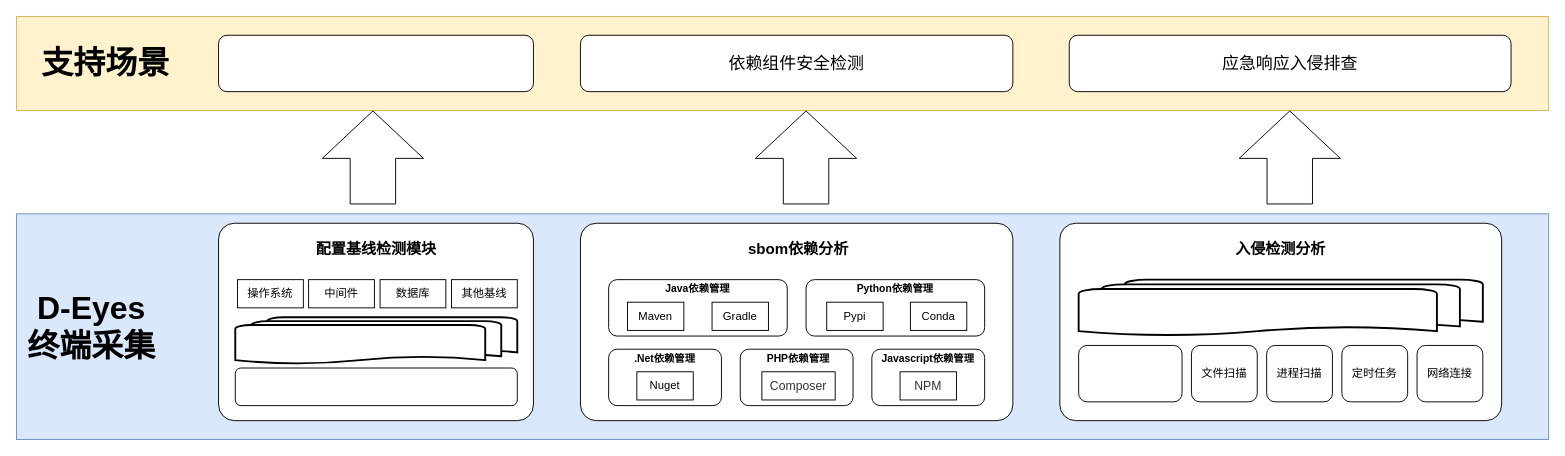
This 1565x456 diagram has some shape labels left out. The centre of each missing label's shape, as x and y in pixels:
yara规则: the point at 1280,307
yara规则引擎: the point at 1130,373
基线检测规则引擎: the point at 375,386
自定义基线检测规则: the point at 376,340
配置基线检查: the point at 375,63
